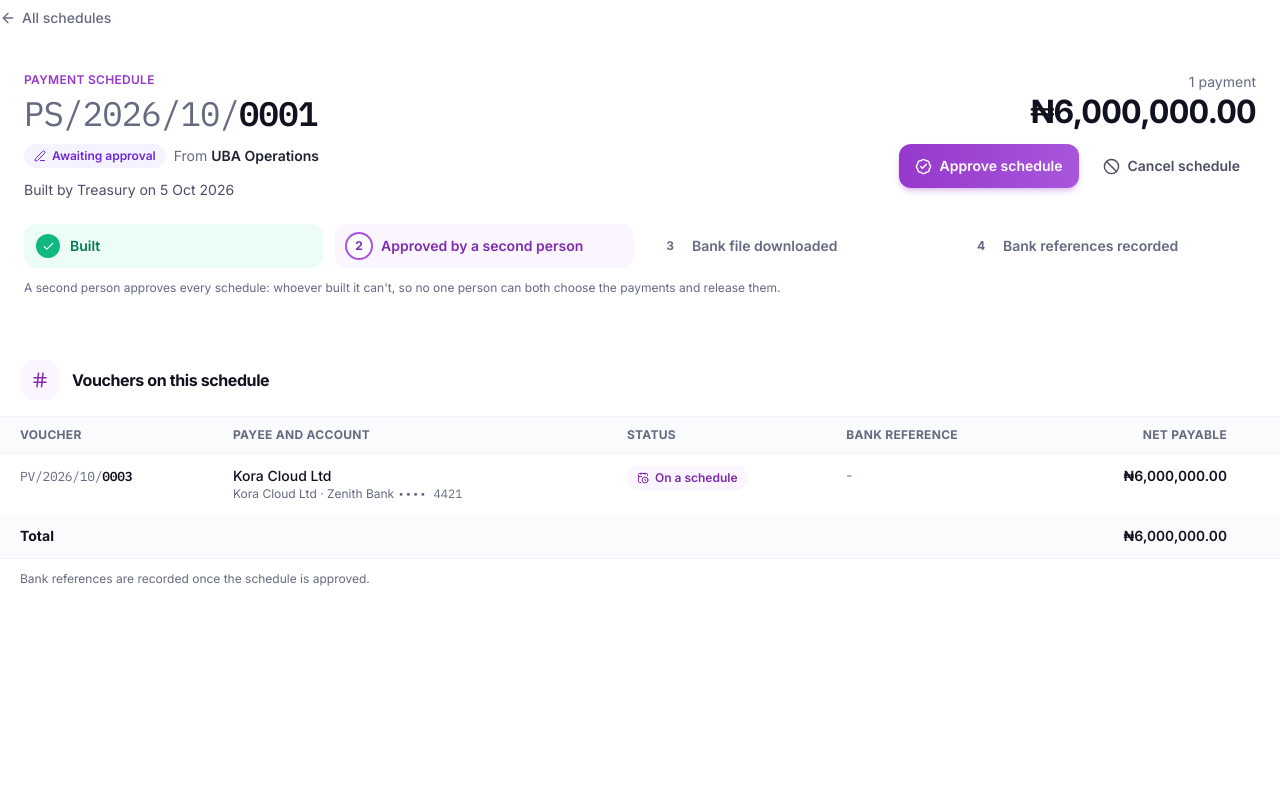
Scenario: ScheduleDetail step-up › opens the prompt when the server asks for a code the page did not expect
Click the button "Approve schedule" at [989, 166], box [899, 144, 1078, 188]
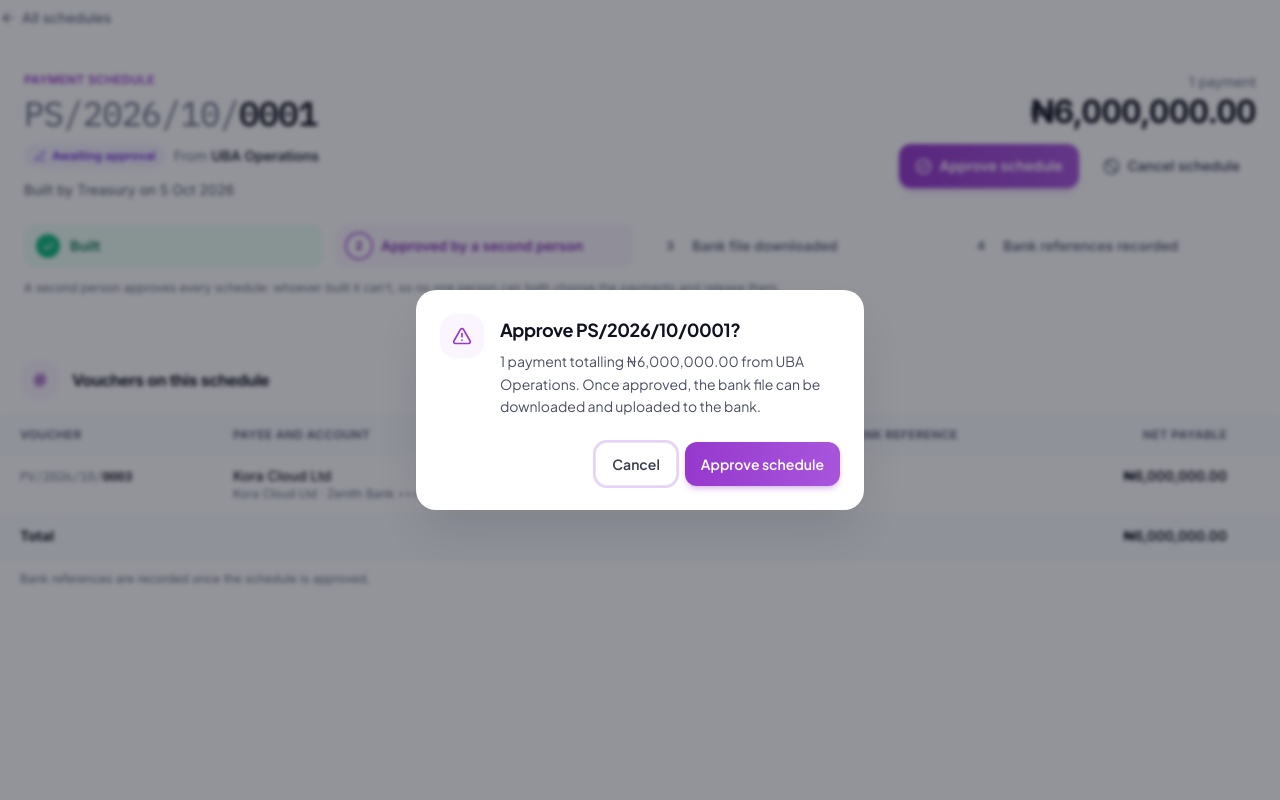
Click the button "Approve schedule" at [762, 464], box [685, 442, 840, 486]
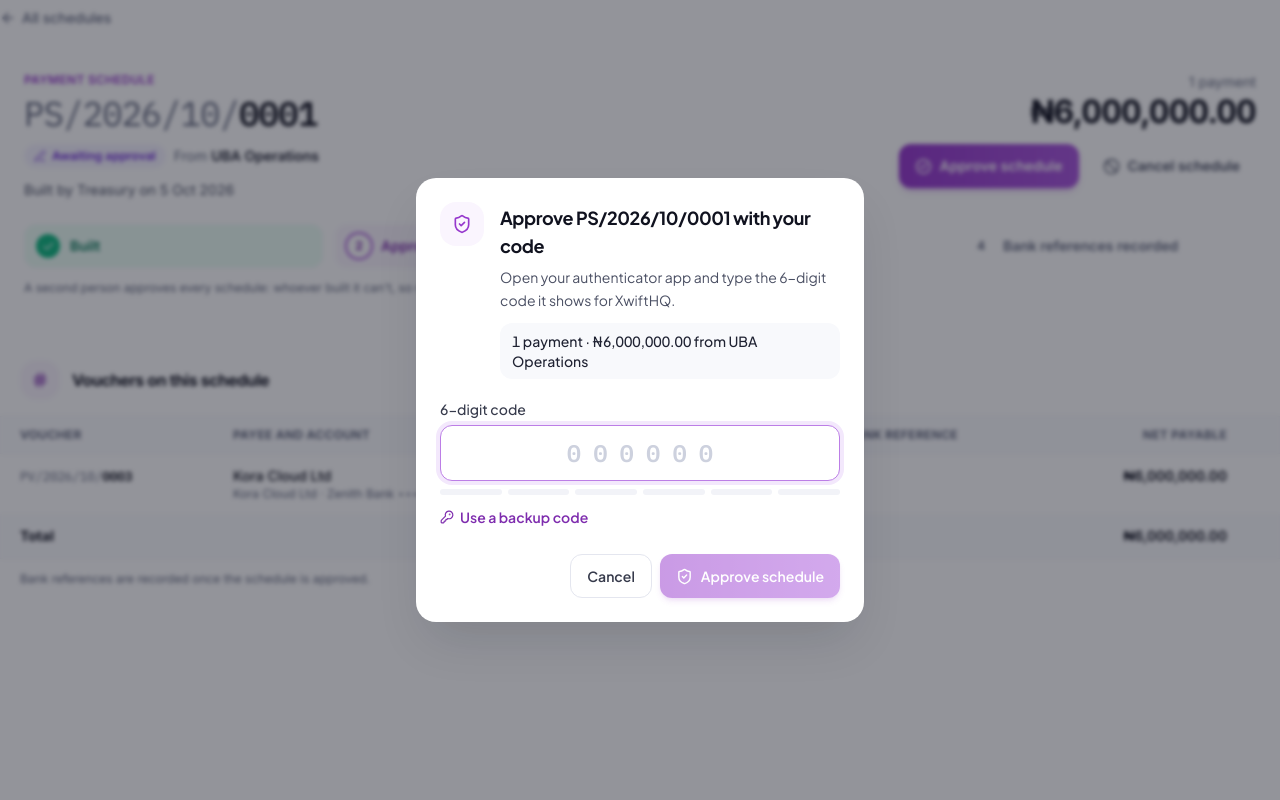
Result: the dialog "with your code" is shown at [416, 178, 864, 622]
